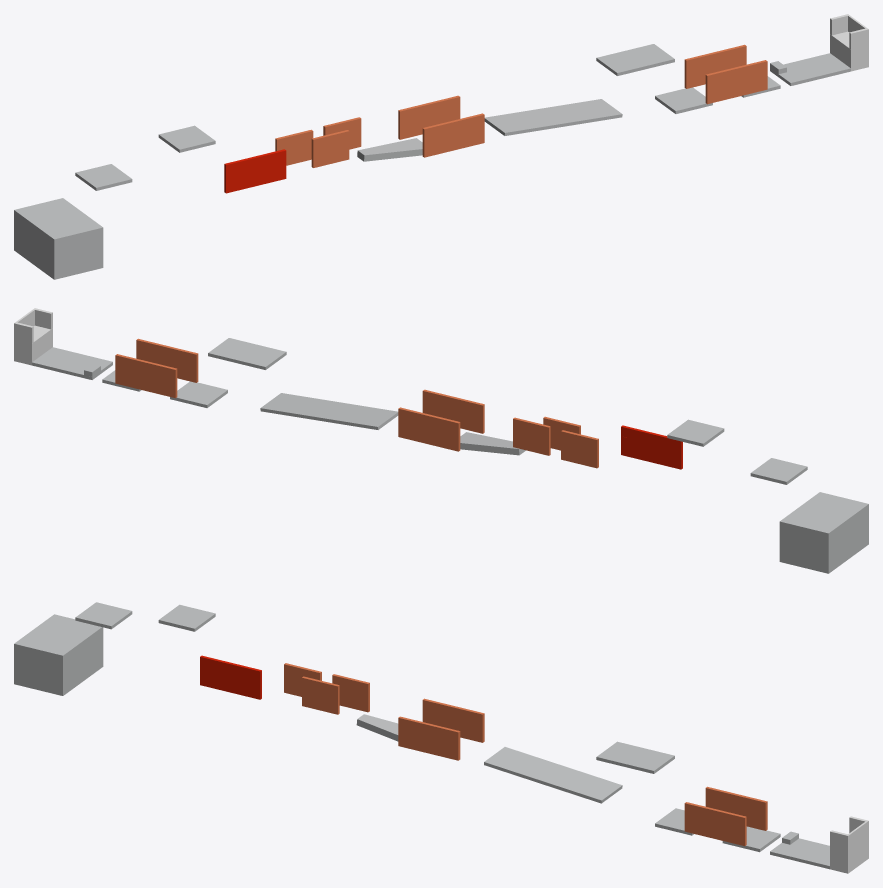
3 views of the same model, one above another, from view 1: azimuth 30°, elevation 25°; view 2: azimuth 150°, elevation 25°; view 3: azimuth 330°, elevation 25° (orthographic).
Visible parts, largest first — view 1: 0stair4.002, 4tutorialClear, 1Wirewall2, 1Wirewall2.001, 2leftwall, 1Wirewall1, 2rightwall, 3wireactionCeiling.001, 1ground, 2walltowall2, 2ground.001, 0start_ground (+5 smaller); view 2: 0stair4.002, 4tutorialClear, 1Wirewall1, 2rightwall, 1Wirewall2.001, 1Wirewall2, 2leftwall, 3wireactionCeiling.001, 1ground, 2walltowall1, 2walltowall2.001, 0start_ground (+5 smaller); view 3: 0stair4.002, 4tutorialClear, 2leftwall, 1Wirewall2, 1Wirewall2.001, 1Wirewall1, 2rightwall, 3wireactionCeiling.001, 1ground, 2walltowall2, 2walltowall1, 3wireactionCeiling.002 (+6 smaller).
Boxes of the visible parts, box(x1,y1,x2,y2) form: 0stair4.002: box(14, 198, 103, 279); 4tutorialClear: box(484, 99, 622, 135); 1Wirewall2: box(422, 113, 484, 157); 1Wirewall2.001: box(224, 149, 286, 193); 2leftwall: box(705, 60, 767, 104); 1Wirewall1: box(398, 95, 460, 139); 2rightwall: box(684, 44, 746, 88); 3wireactionCeiling.001: box(596, 44, 674, 75); 1ground: box(770, 53, 850, 85); 2walltowall2: box(311, 130, 349, 167); 2ground.001: box(357, 138, 422, 161); 0start_ground: box(830, 31, 868, 71); 0stair4.002: box(779, 492, 868, 573); 4tutorialClear: box(260, 393, 398, 429); 1Wirewall1: box(398, 407, 460, 451); 2rightwall: box(115, 354, 177, 398); 1Wirewall2.001: box(621, 425, 682, 469); 1Wirewall2: box(422, 389, 484, 433); 2leftwall: box(136, 338, 198, 382); 3wireactionCeiling.001: box(208, 338, 286, 369); 1ground: box(32, 347, 112, 379); 2walltowall1: box(513, 417, 550, 455); 2walltowall2.001: box(561, 430, 598, 468); 0start_ground: box(14, 325, 52, 365); 0stair4.002: box(14, 614, 103, 695); 4tutorialClear: box(484, 747, 622, 803); 2leftwall: box(684, 802, 746, 846); 1Wirewall2: box(398, 716, 460, 760); 1Wirewall2.001: box(200, 655, 261, 699); 1Wirewall1: box(422, 698, 484, 742); 2rightwall: box(705, 786, 767, 830); 3wireactionCeiling.001: box(596, 741, 674, 773); 1ground: box(770, 838, 829, 869); 2walltowall2: box(302, 676, 339, 714); 2walltowall1: box(332, 674, 369, 712); 3wireactionCeiling.002: box(158, 604, 215, 631).
Bounding box in the file's own units: 2738 × 286 × 232.
